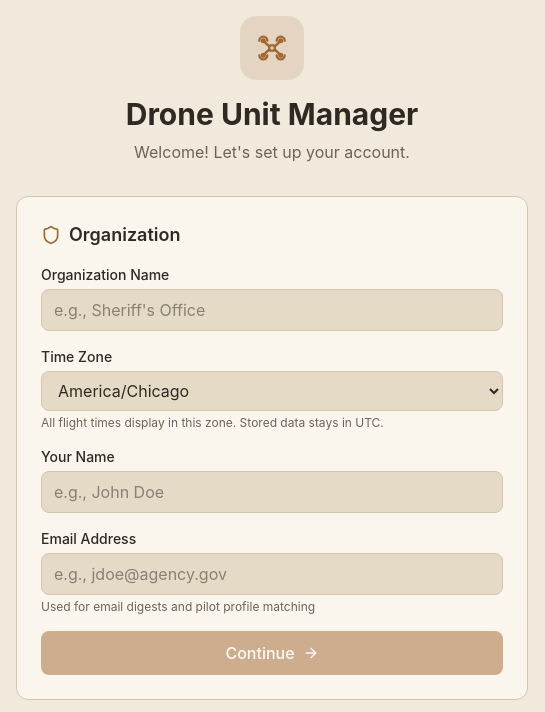
SetupPage › advances to the admin-account step
Type "John Doe" into the field labelled "Your Name". click: (272, 492)
box: [41, 471, 503, 513]
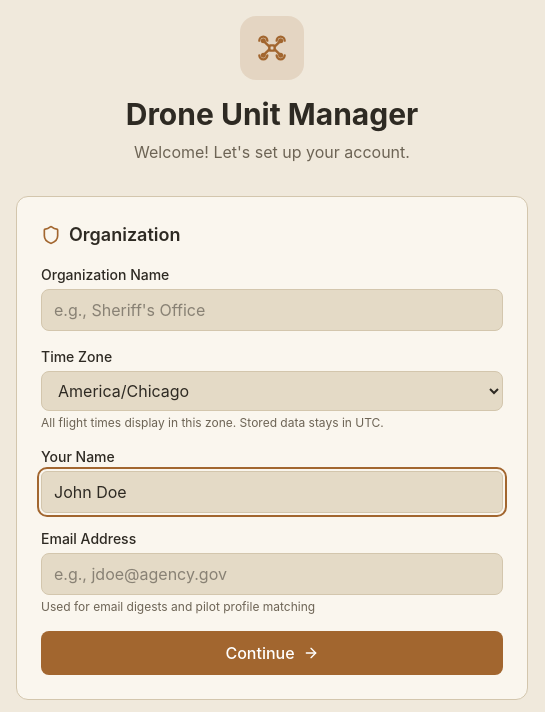
Click the button "Continue". click: (272, 653)
box: [41, 631, 503, 675]
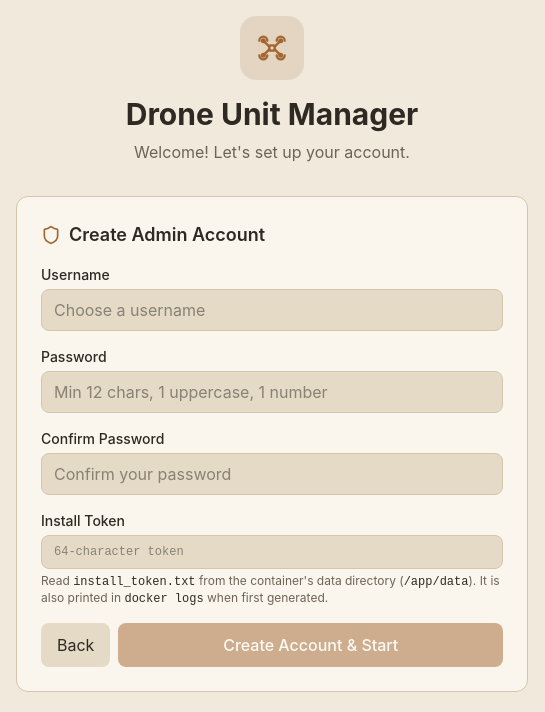
Result: the heading "Create Admin Account" is shown at [41, 224, 265, 245]
